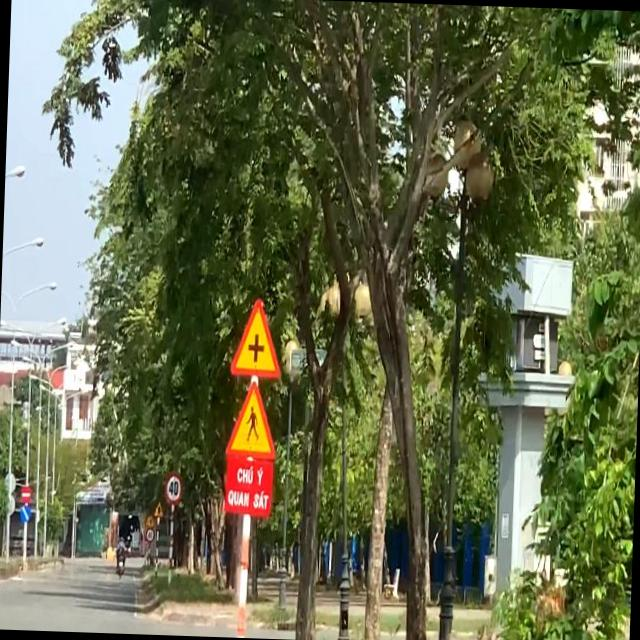P-102: (20, 484, 32, 504)
P-127: (162, 474, 184, 504)
R-302a: (19, 504, 30, 522)
W-205d: (224, 296, 285, 378)
W-224: (222, 378, 276, 459)
